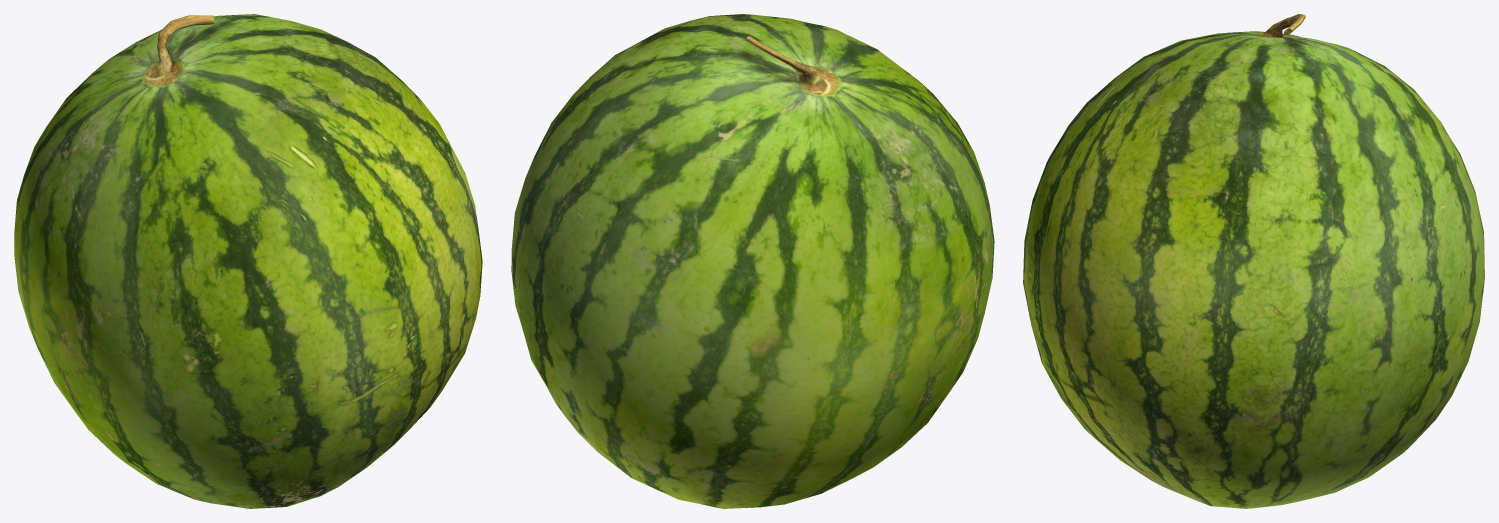
The model's file is watermelon.fbx.
3 views of the same model, side by side, from view 1: azimuth 30°, elevation 25°; view 2: azimuth 150°, elevation 25°; view 3: azimuth 270°, elevation 25° (orthographic). The views are drawn at different scales.
Parts seen in each view (by area): view 1: SM_Watermelon_01_low; view 2: SM_Watermelon_01_low; view 3: SM_Watermelon_01_low.
Part boxes in pixels (x1,y1,x2,y2): SM_Watermelon_01_low: (14,14,482,508); SM_Watermelon_01_low: (511,14,994,508); SM_Watermelon_01_low: (1023,14,1484,508).
Size of the model in its own units: 128 by 138 by 129.
Materials: 1 (1 with a texture image).
